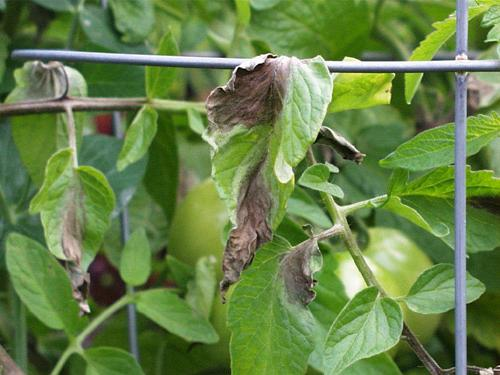Tomato leaf late blight: (203, 53, 339, 301), (205, 227, 339, 375), (21, 148, 129, 319)
